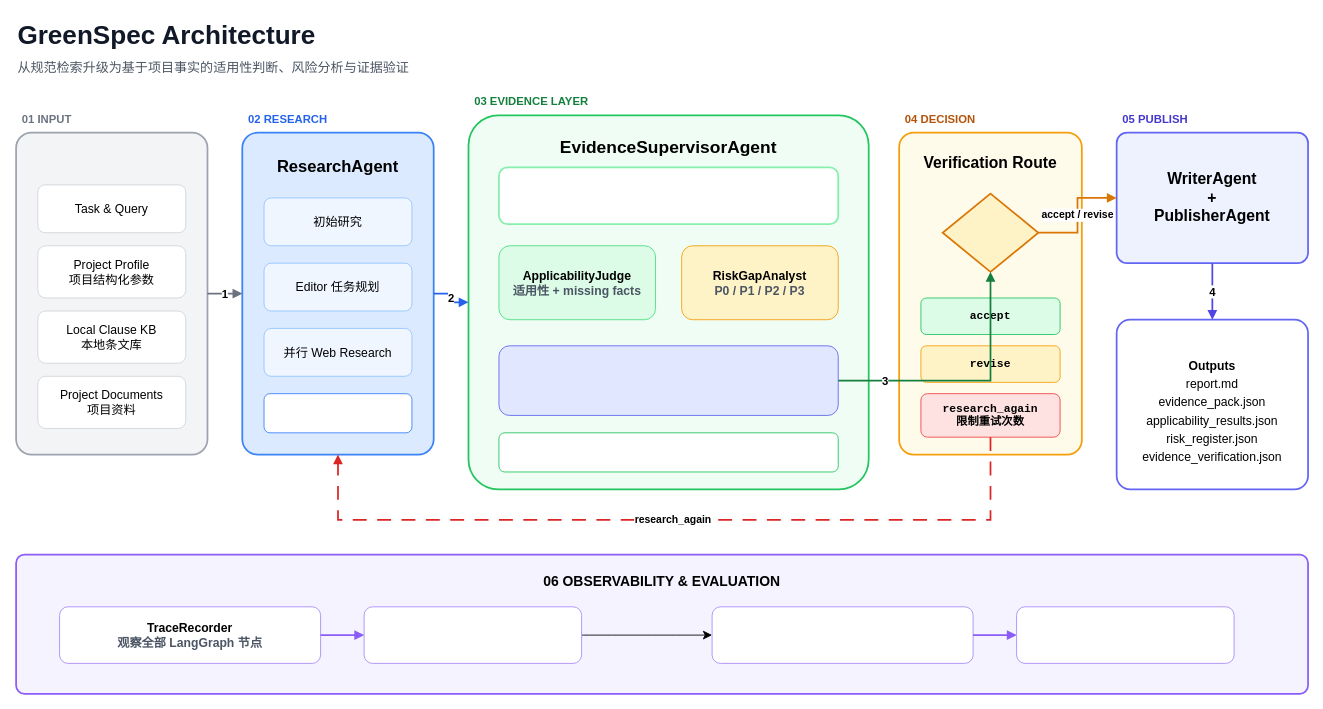
The diagram is 1323 pixels wide and 709 high, and some of its shapes have lost their labels. Each missing label, with the box of its shape:
Decision: (941, 192, 1039, 272)
eval_report.md: (1016, 606, 1234, 663)
EvidenceVerifier 来源等级 + 引用完整性: (498, 345, 838, 415)
GreenSpecEvaluator 10 条确定性 Eval: (711, 606, 973, 663)
research_data: (263, 393, 412, 433)
Structured State applicability_results · risk_register · evidence_verification: (498, 432, 838, 472)
trace.json trace.summary.json: (363, 606, 582, 663)
统一 Evidence Pack Local Clause + Web Policy + Project Facts: (498, 166, 839, 224)
项目输入: (15, 131, 208, 455)
